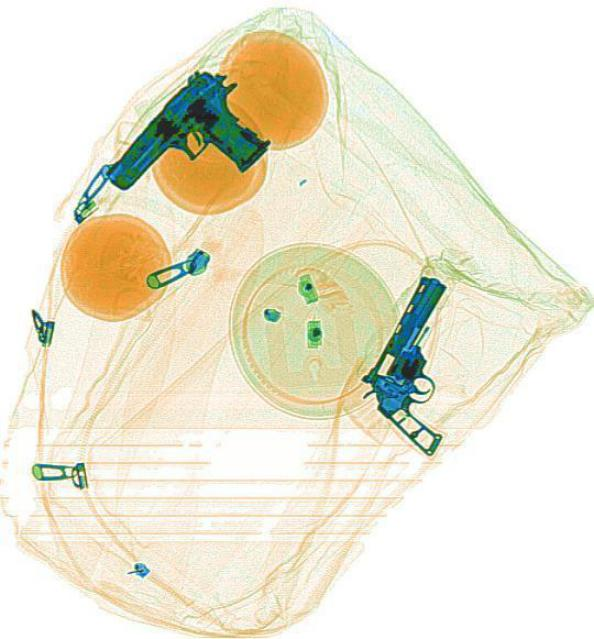Gun: (94, 54, 285, 243), (342, 267, 503, 456)
